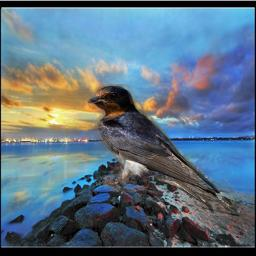Swallow: (87, 84, 245, 220)
